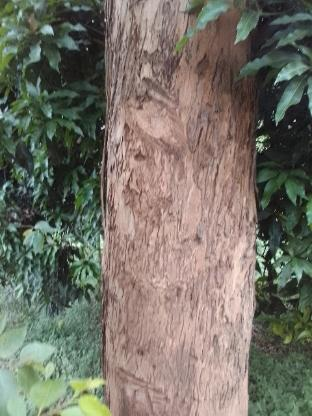tree: (90, 0, 266, 416)
